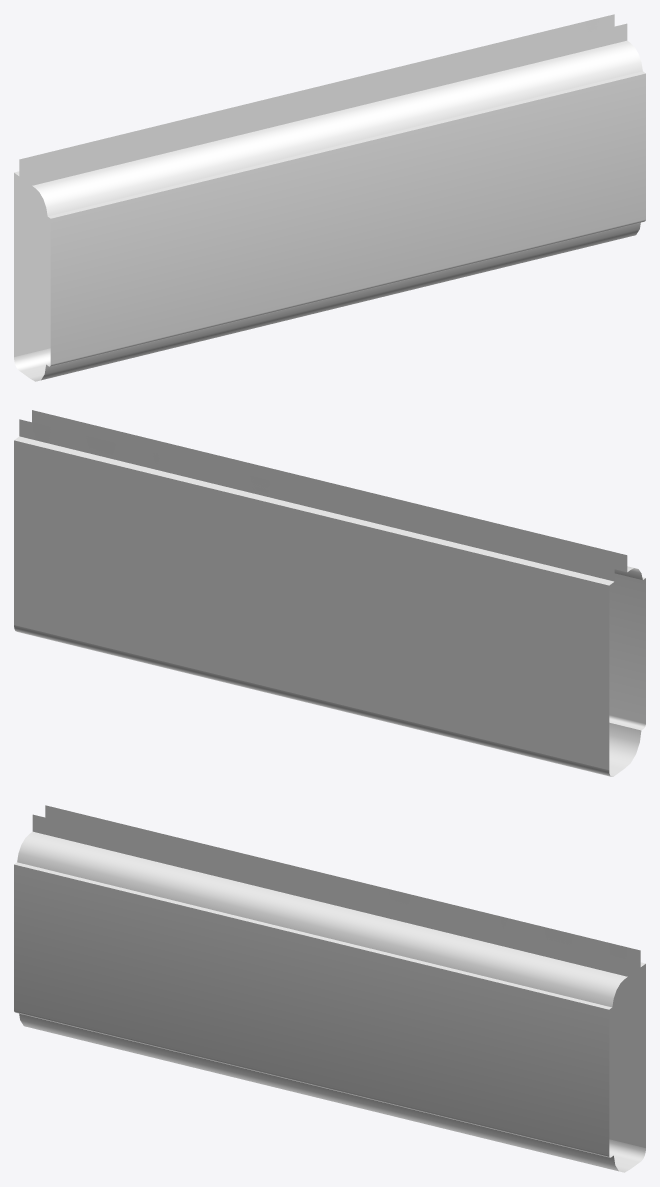
File: original-50.obj
The picture shows the model from 3 angles, top to bottom: view 1: azimuth 30°, elevation 25°; view 2: azimuth 150°, elevation 25°; view 3: azimuth 330°, elevation 25°; orthographic projection.
Visible parts, largest first — view 1: DF_31_BC1/DF_31_BC/mesh28/mesh28-geometry#mesh28-geometry; view 2: DF_31_BC1/DF_31_BC/mesh28/mesh28-geometry#mesh28-geometry; view 3: DF_31_BC1/DF_31_BC/mesh28/mesh28-geometry#mesh28-geometry.
Part boxes in pixels (box(x1,y1,x2,y2)): DF_31_BC1/DF_31_BC/mesh28/mesh28-geometry#mesh28-geometry: box(14, 14, 645, 381); DF_31_BC1/DF_31_BC/mesh28/mesh28-geometry#mesh28-geometry: box(14, 410, 645, 776); DF_31_BC1/DF_31_BC/mesh28/mesh28-geometry#mesh28-geometry: box(14, 805, 645, 1172).
Size of the model in its own units: 0.3305 by 0.1122 by 0.0354.
